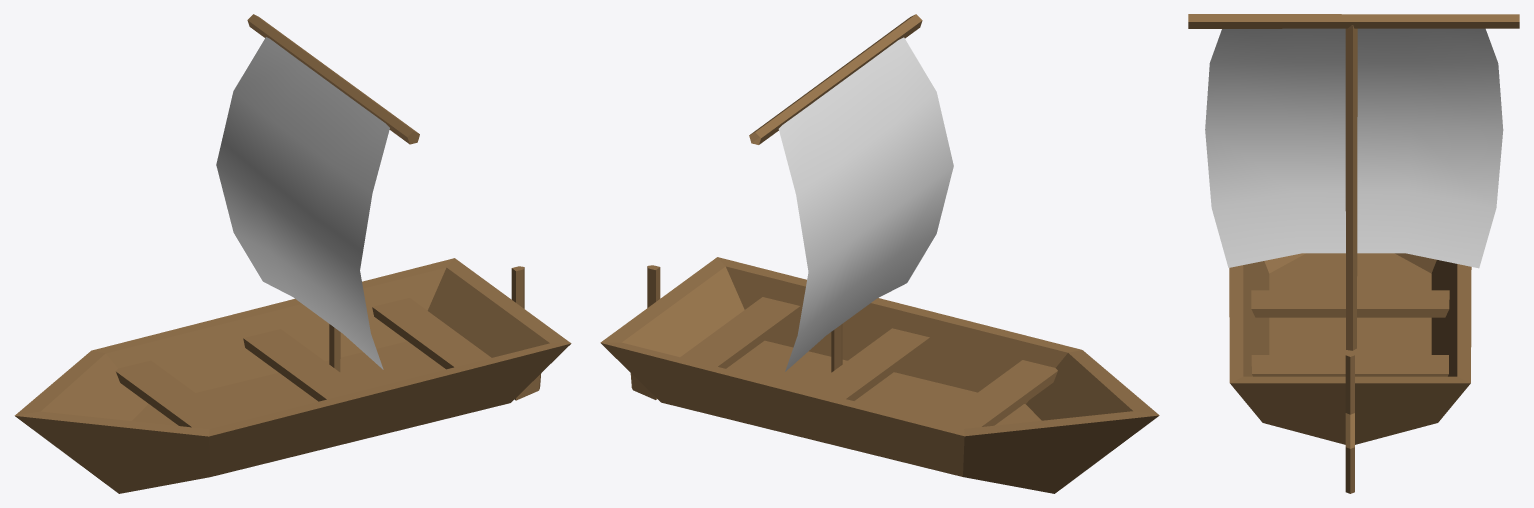
The model's file is boat_01.fbx.
The picture shows the model from 3 angles, left to right: view 1: azimuth 30°, elevation 25°; view 2: azimuth 150°, elevation 25°; view 3: azimuth 270°, elevation 25°; orthographic projection. The views are drawn at different scales.
Parts seen in each view (by area): view 1: boat_01; view 2: boat_01; view 3: boat_01.
Part boxes in pixels (bbox=[...]): boat_01: bbox=[14, 14, 571, 493]; boat_01: bbox=[600, 14, 1159, 493]; boat_01: bbox=[1188, 14, 1519, 493].
Bounding box in the file's own units: 490 × 326 × 257.
